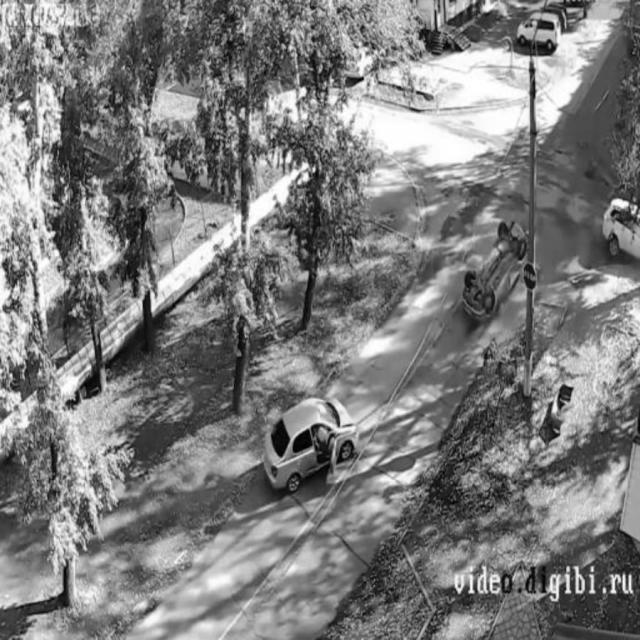vehicle: (263, 390, 361, 490), (466, 227, 524, 318), (599, 195, 640, 265), (513, 15, 561, 52)
